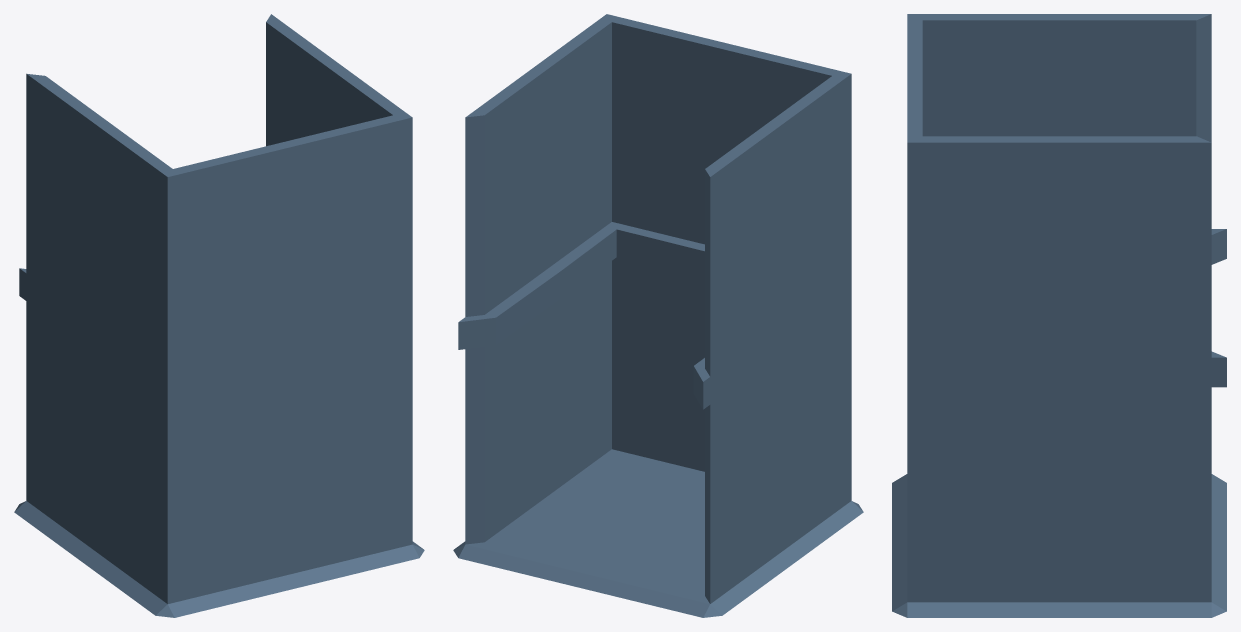
Rendered from Wall3.FBX.
The picture shows the model from 3 angles, left to right: view 1: azimuth 30°, elevation 25°; view 2: azimuth 150°, elevation 25°; view 3: azimuth 270°, elevation 25°; orthographic projection. The views are drawn at different scales.
Parts seen in each view (by area): view 1: Wall3; view 2: Wall3, Object008; view 3: Wall3, Object008.
Part boxes in pixels (left/top/right/bottom): Wall3: left=14, top=14, right=424, bottom=617; Wall3: left=453, top=14, right=863, bottom=617; Object008: left=458, top=222, right=710, bottom=409; Wall3: left=892, top=14, right=1226, bottom=617; Object008: left=1211, top=229, right=1226, bottom=387.
Bounding box in the file's own units: 130 × 201 × 130.
